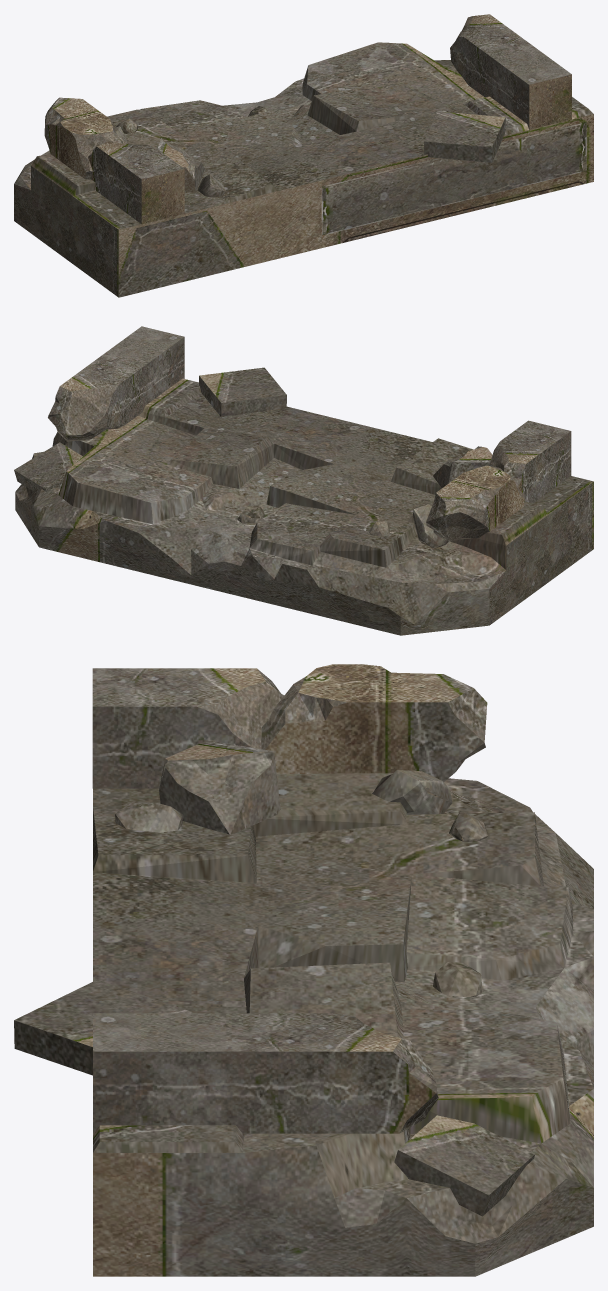
Rendered from bg_lut_lutomb_brokenbridge01_sm_old.FBX.
3 renders of one model, top to bottom at view 1: azimuth 30°, elevation 25°; view 2: azimuth 150°, elevation 25°; view 3: azimuth 270°, elevation 25°, orthographic. The views are drawn at different scales.
Parts seen in each view (by area): view 1: bg_lut_lutomb_brokenbridge01_sm_old; view 2: bg_lut_lutomb_brokenbridge01_sm_old; view 3: bg_lut_lutomb_brokenbridge01_sm_old.
Part boxes in pixels (bbox=[...]): bg_lut_lutomb_brokenbridge01_sm_old: bbox=[14, 14, 593, 297]; bg_lut_lutomb_brokenbridge01_sm_old: bbox=[14, 326, 593, 635]; bg_lut_lutomb_brokenbridge01_sm_old: bbox=[14, 664, 593, 1276].
Size of the model in its own units: 529 by 120 by 307.
